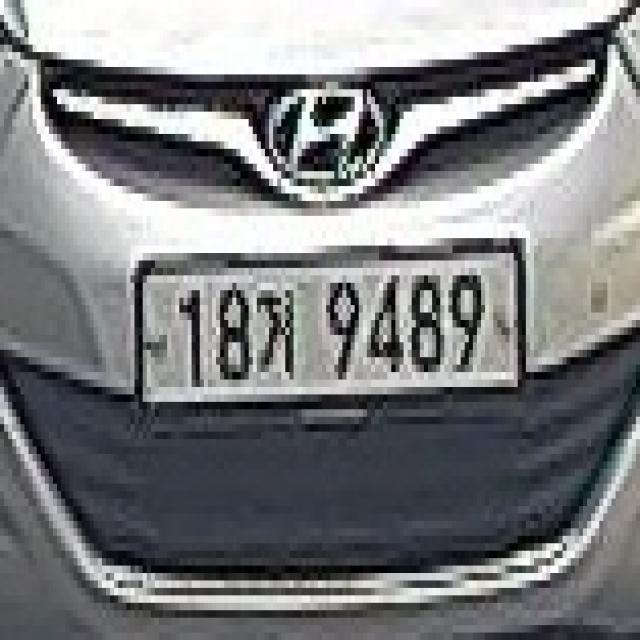1: (171, 275, 208, 402)
4: (362, 268, 408, 379)
8: (208, 275, 253, 402), (408, 268, 444, 387)
9: (444, 268, 494, 387), (322, 268, 363, 387)
geo: (252, 275, 298, 387)
license_plate: (126, 231, 534, 439)
